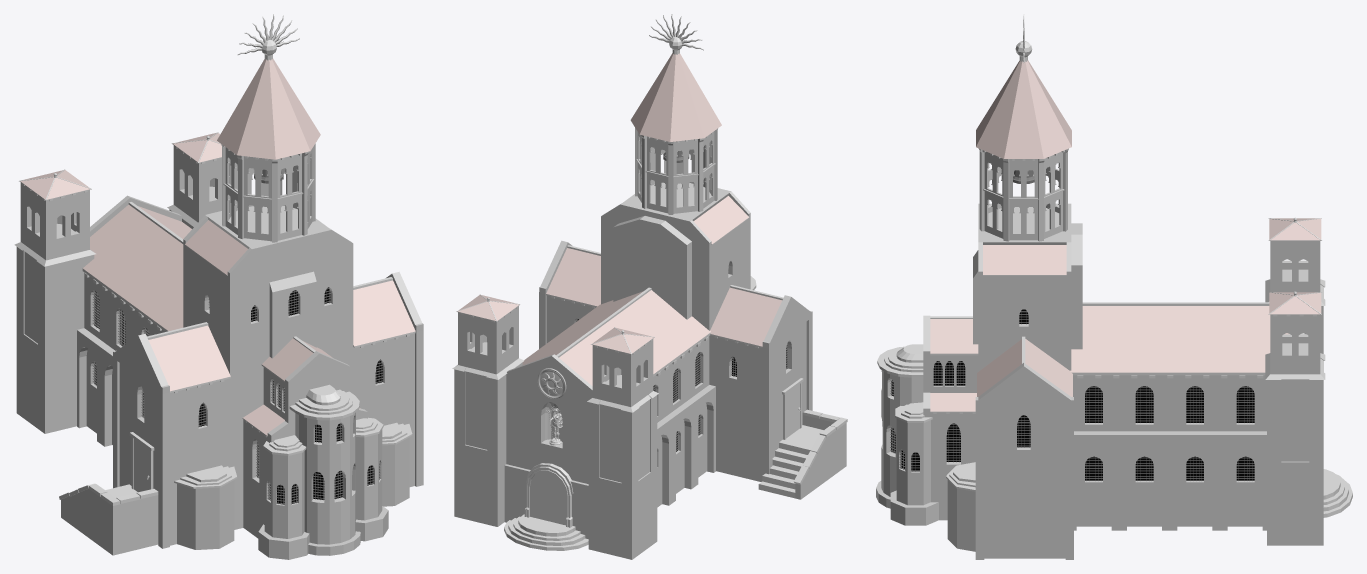
Rendered from church_landmark.glb.
3 views of the same model, side by side, from view 1: azimuth 30°, elevation 25°; view 2: azimuth 150°, elevation 25°; view 3: azimuth 270°, elevation 25° (orthographic). The views are drawn at different scales.
Parts seen in each view (by area): view 1: StoneBrickWalls, CopperRoof, StoneRoof, WindowBars, Windows, StoneBeams, SideDoor, SideStairs; view 2: StoneBrickWalls, CopperRoof, FrontDoor, SideStairs, StoneBeams, SideDoor, SunSymbol, WindowBars; view 3: StoneBrickWalls, CopperRoof, Windows, WindowBars, StoneRoof, StoneBeams, FrontDoor.
Boxes of the visible parts, box(x1,y1,x2,y2) form: StoneBrickWalls: box(14, 143, 423, 559); CopperRoof: box(19, 14, 415, 436); StoneRoof: box(174, 384, 412, 488); WindowBars: box(92, 287, 383, 504); Windows: box(95, 287, 382, 504); StoneBeams: box(22, 145, 409, 436); SideDoor: box(129, 432, 154, 492); SideStairs: box(59, 483, 158, 505); StoneBrickWalls: box(452, 128, 846, 559); CopperRoof: box(456, 14, 782, 385); FrontDoor: box(504, 463, 588, 550); SideStairs: box(758, 409, 847, 498); StoneBeams: box(460, 126, 783, 375); SideDoor: box(782, 378, 803, 439); SunSymbol: box(537, 368, 566, 398); WindowBars: box(576, 269, 788, 451); StoneBrickWalls: box(876, 148, 1325, 559); CopperRoof: box(930, 14, 1321, 412); Windows: box(891, 309, 1254, 480); WindowBars: box(890, 309, 1254, 480); StoneRoof: box(877, 344, 975, 491); StoneBeams: box(930, 150, 1316, 413); FrontDoor: box(1323, 469, 1352, 517).
Size of the model in its own units: 12.41 by 18.77 by 16.92.
